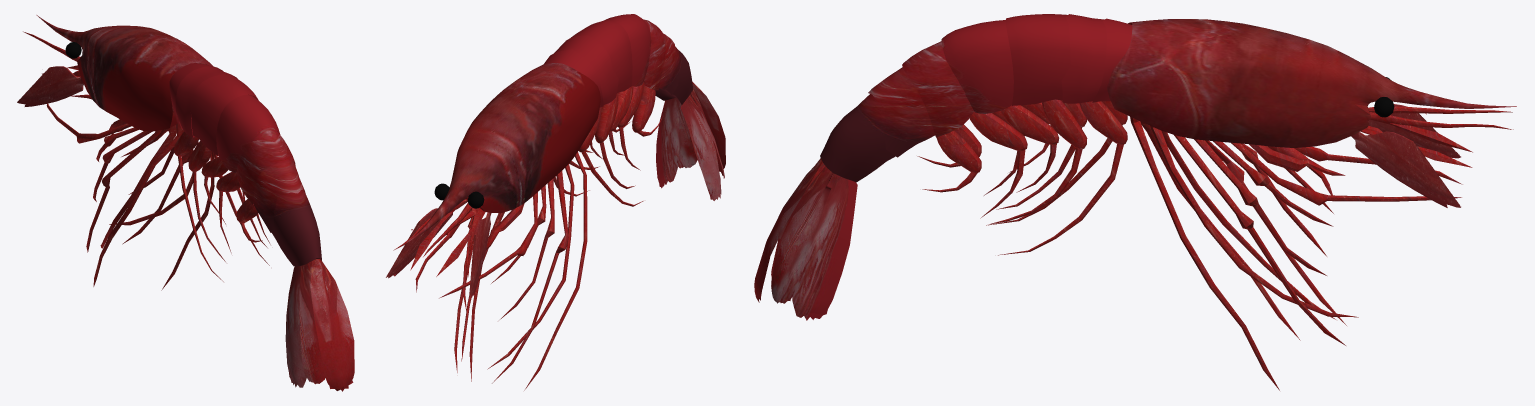
3 renders of one model, left to right at view 1: azimuth 30°, elevation 25°; view 2: azimuth 150°, elevation 25°; view 3: azimuth 270°, elevation 25°, orthographic. The views are drawn at different scales.
Parts seen in each view (by area): view 1: LPRMAIN, LPRTa3, LPRBOD10, LPRBOD04, LPRBOD03, LPRBOD05, LPRBOD06, LPRTai2, LPRAnt, LPRTai1, LPRBOD02, LPRLgL07 (+15 smaller); view 2: LPRMAIN, LPRTai1, LPRBOD03, LPRTai5, LPRBOD02, LPRBOD04, LPRBOD05, LPRLgL07, LPRLgL01, LPRAnt, LPRAnt1, LPRLgL06 (+19 smaller); view 3: LPRMAIN, LPRBOD03, LPRBOD04, LPRTai5, LPRBOD10, LPRTai4, LPRBOD05, LPRAnt1, LPRBOD06, LPRBOD02, LPRLgR10, LPRLgR04 (+19 smaller).
Part boxes in pixels (box(x1,y1,x2,y2)): LPRMAIN: box(36, 15, 213, 131); LPRTa3: box(308, 259, 354, 391); LPRBOD10: box(271, 189, 321, 266); LPRBOD04: box(216, 95, 280, 172); LPRBOD03: box(190, 74, 258, 156); LPRBOD05: box(236, 129, 295, 204); LPRBOD06: box(253, 160, 305, 232); LPRTai2: box(299, 263, 325, 384); LPRAnt: box(17, 66, 83, 106); LPRTai1: box(285, 266, 306, 387); LPRBOD02: box(175, 66, 237, 137); LPRLgL07: box(93, 123, 183, 286); LPRMAIN: box(405, 63, 600, 243); LPRTai1: box(681, 94, 721, 200); LPRBOD03: box(571, 20, 632, 93); LPRTai5: box(656, 98, 679, 188); LPRBOD02: box(554, 35, 618, 104); LPRBOD04: box(604, 14, 651, 86); LPRBOD05: box(643, 19, 665, 90); LPRLgL07: box(524, 152, 587, 390); LPRLgL01: box(492, 170, 568, 383); LPRAnt: box(469, 212, 491, 298); LPRAnt1: box(386, 208, 452, 278); LPRLgL06: box(487, 164, 574, 369); LPRMAIN: box(1107, 19, 1516, 147); LPRBOD03: box(1005, 14, 1070, 105); LPRBOD04: box(941, 20, 1013, 113); LPRTai5: box(792, 175, 857, 320); LPRBOD10: box(820, 94, 895, 182); LPRTai4: box(771, 166, 836, 303); LPRBOD05: box(902, 41, 974, 137); LPRAnt1: box(1351, 131, 1460, 207); LPRBOD06: box(868, 67, 934, 157); LPRBOD02: box(1061, 14, 1106, 103); LPRLgR10: box(1130, 116, 1279, 390); LPRLgR04: box(1150, 125, 1358, 317).
Size of the model in its own units: 4941 by 13811 by 26814.
Materials: 6 (5 with a texture image).
